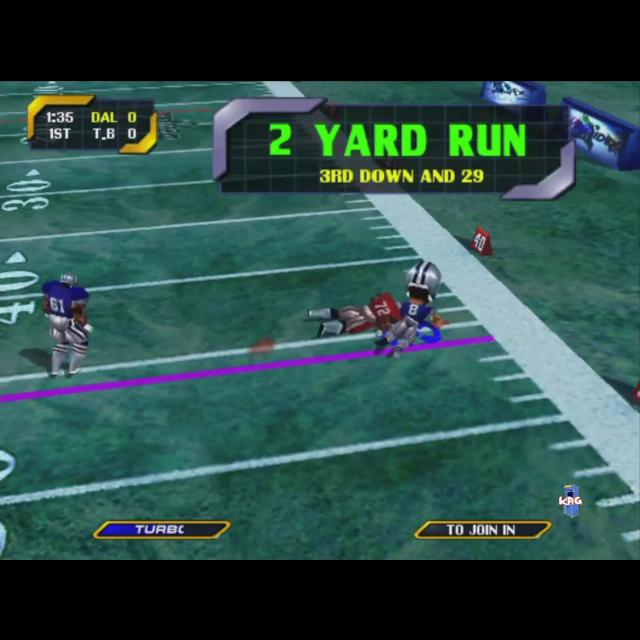player: (374, 260, 450, 356), (41, 271, 93, 375), (308, 290, 402, 340)
